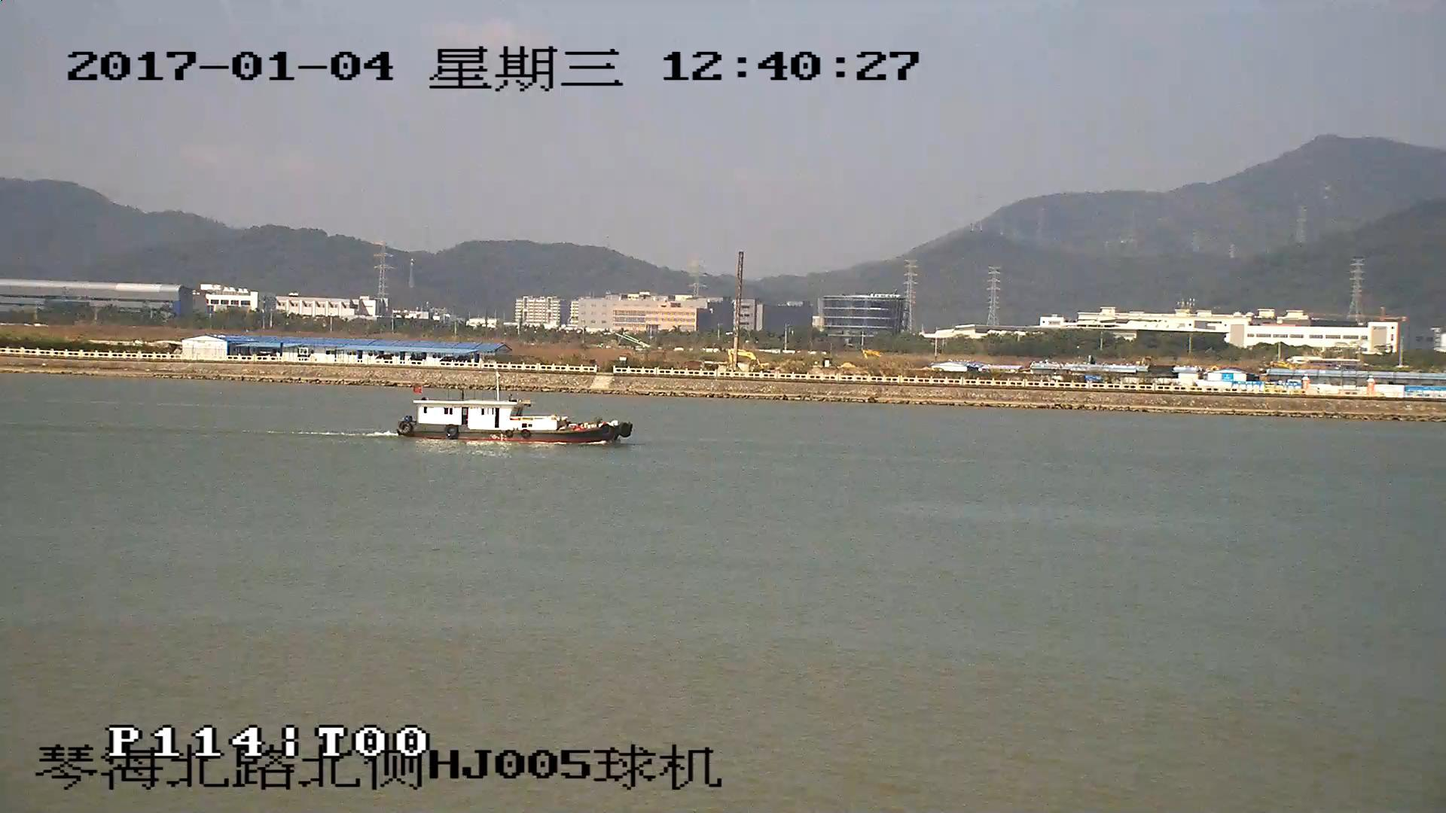fishing boat: (398, 375, 631, 442)
